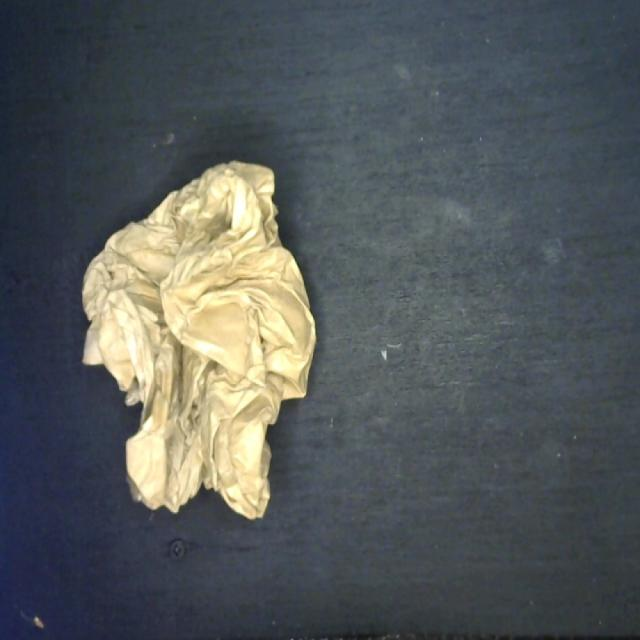biodegradable: (75, 154, 318, 526)
